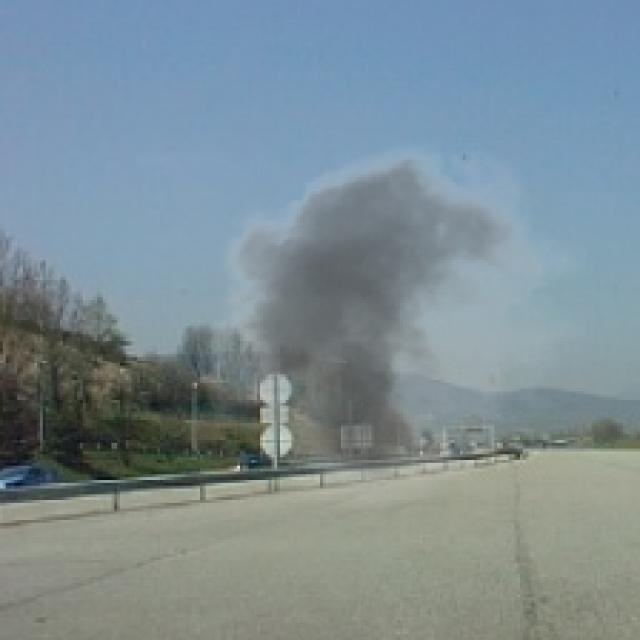smoke: (186, 128, 588, 512)
